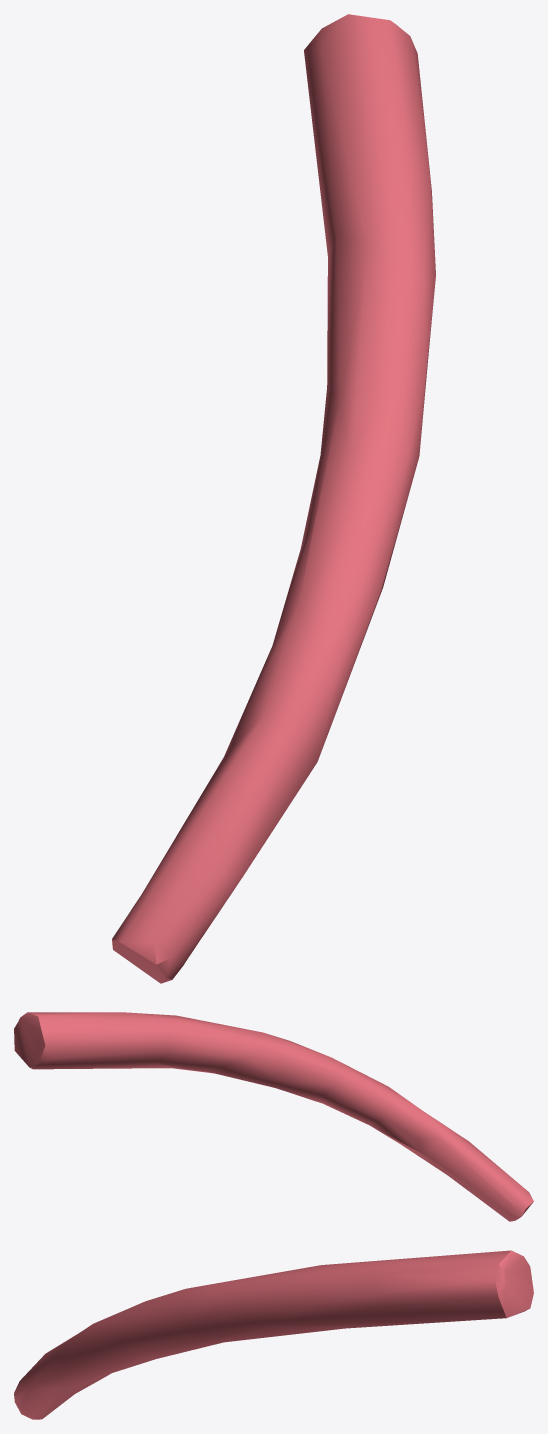
The model's file is fma8620_fj6047.glb.
The picture shows the model from 3 angles, top to bottom: view 1: azimuth 30°, elevation 25°; view 2: azimuth 150°, elevation 25°; view 3: azimuth 270°, elevation 25°; orthographic projection. The views are drawn at different scales.
Visible parts, largest first — view 1: FMA8620_FJ6047; view 2: FMA8620_FJ6047; view 3: FMA8620_FJ6047.
Part boxes in pixels (x1=…): FMA8620_FJ6047: x1=112, y1=14, x2=435, y2=983; FMA8620_FJ6047: x1=14, y1=1012, x2=533, y2=1221; FMA8620_FJ6047: x1=14, y1=1250, x2=533, y2=1419.
Size of the model in its own units: 0.0188 by 0.0147 by 0.0202.
